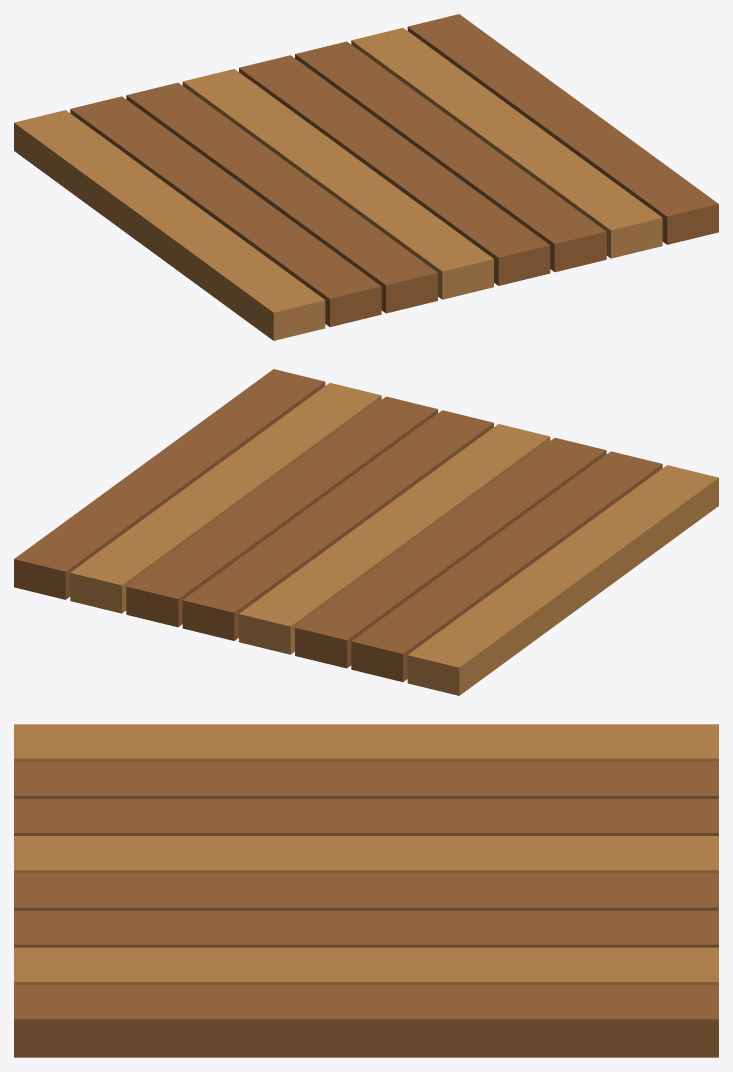
The model's file is wood_floor.glb.
The picture shows the model from 3 angles, top to bottom: view 1: azimuth 30°, elevation 25°; view 2: azimuth 150°, elevation 25°; view 3: azimuth 270°, elevation 25°; orthographic projection. The views are drawn at different scales.
Parts seen in each view (by area): view 1: Floor_1, Floor_5, Floor_3, Floor_6, Floor_8, Floor_7, Floor_2, Floor_4; view 2: Floor_1, Floor_5, Floor_3, Floor_6, Floor_8, Floor_7, Floor_2, Floor_4; view 3: Floor_8, Floor_1, Floor_2, Floor_4, Floor_5, Floor_6, Floor_7, Floor_3.
Part boxes in pixels (bbox=[...]): Floor_1: bbox=[14, 110, 325, 340]; Floor_5: bbox=[239, 55, 550, 285]; Floor_3: bbox=[126, 82, 437, 313]; Floor_6: bbox=[295, 41, 606, 272]; Floor_8: bbox=[407, 14, 718, 244]; Floor_7: bbox=[351, 28, 662, 258]; Floor_2: bbox=[70, 96, 381, 326]; Floor_4: bbox=[182, 69, 493, 299]; Floor_1: bbox=[407, 465, 718, 695]; Floor_5: bbox=[182, 410, 493, 640]; Floor_3: bbox=[295, 437, 606, 668]; Floor_6: bbox=[126, 396, 437, 627]; Floor_8: bbox=[14, 369, 325, 599]; Floor_7: bbox=[70, 383, 381, 613]; Floor_2: bbox=[351, 451, 662, 681]; Floor_4: bbox=[239, 424, 550, 654]; Floor_8: bbox=[14, 985, 718, 1057]; Floor_1: bbox=[14, 724, 718, 761]; Floor_2: bbox=[14, 761, 718, 798]; Floor_4: bbox=[14, 836, 718, 873]; Floor_5: bbox=[14, 873, 718, 910]; Floor_6: bbox=[14, 910, 718, 947]; Floor_7: bbox=[14, 947, 718, 984]; Floor_3: bbox=[14, 799, 718, 835].
Bounding box in the file's own units: 3.96 × 0.24 × 4.
